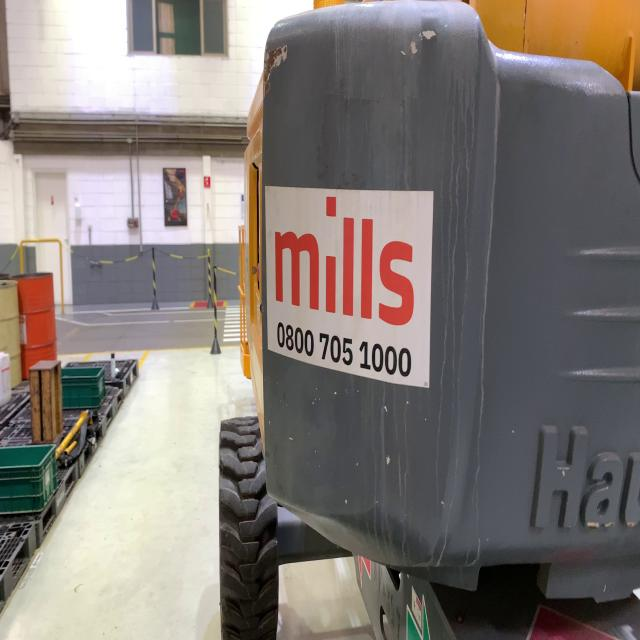Adesivos: (263, 182, 437, 394)
